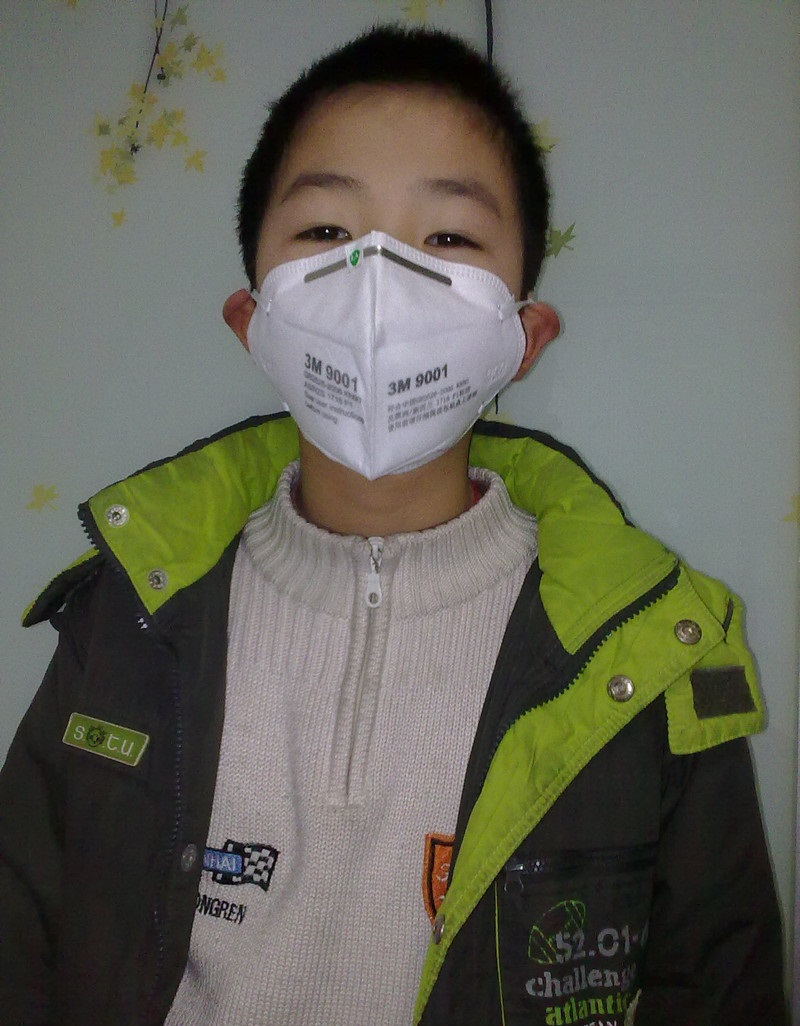face_mask: (258, 64, 519, 485)
